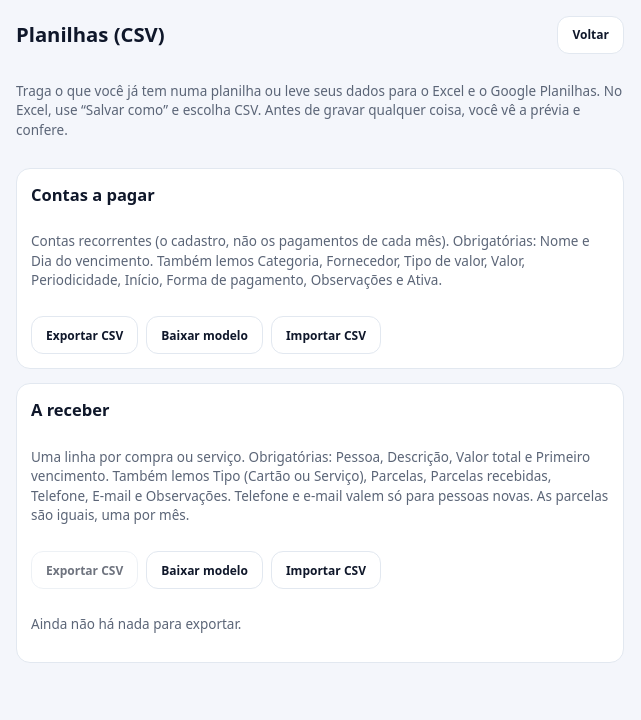
Planilhas (CSV) › exporta as contas com o nome do arquivo datado
The image size is (641, 720).
Click the button "Exportar CSV" below "Contas a pagar" at (85, 335), box [31, 316, 138, 354]
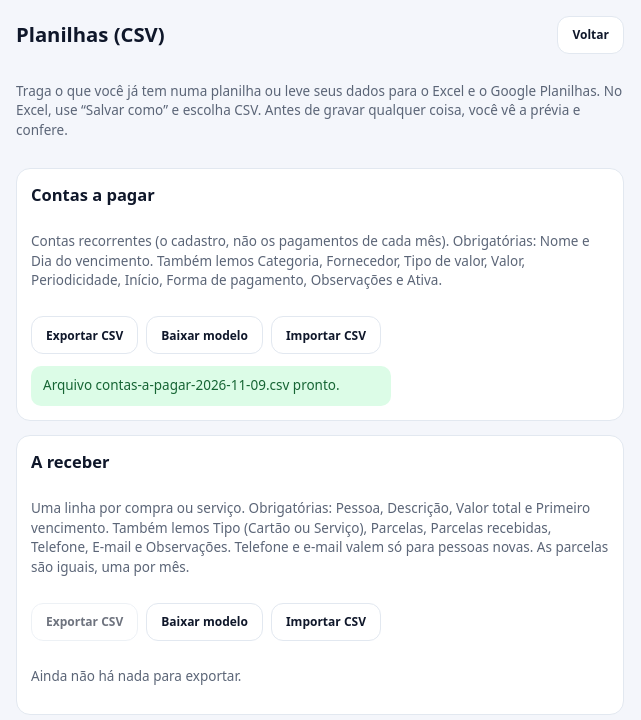
Check: the text "Arquivo contas-a-pagar-2026-11-09.csv pronto." is shown, box [31, 366, 391, 406]
